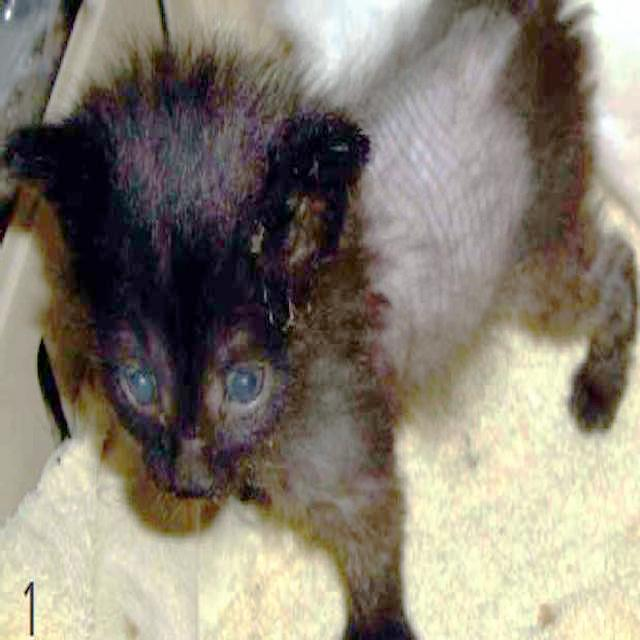hairloss: (361, 56, 521, 356)
